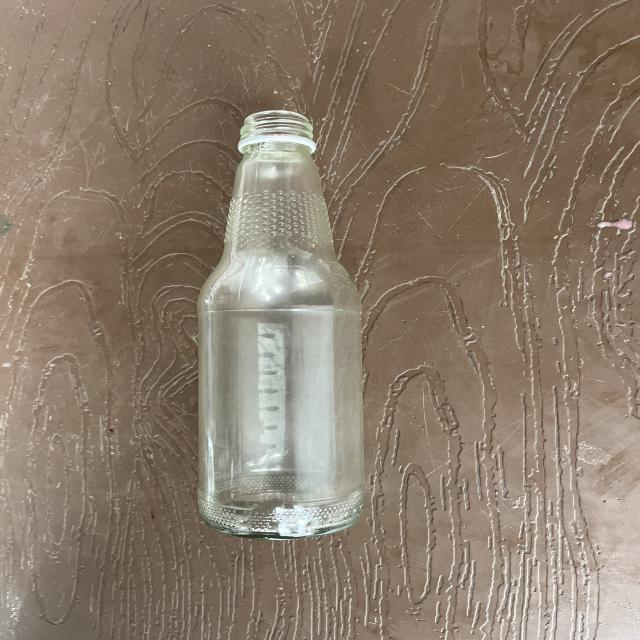Glass_Bottle: (198, 111, 364, 538)
